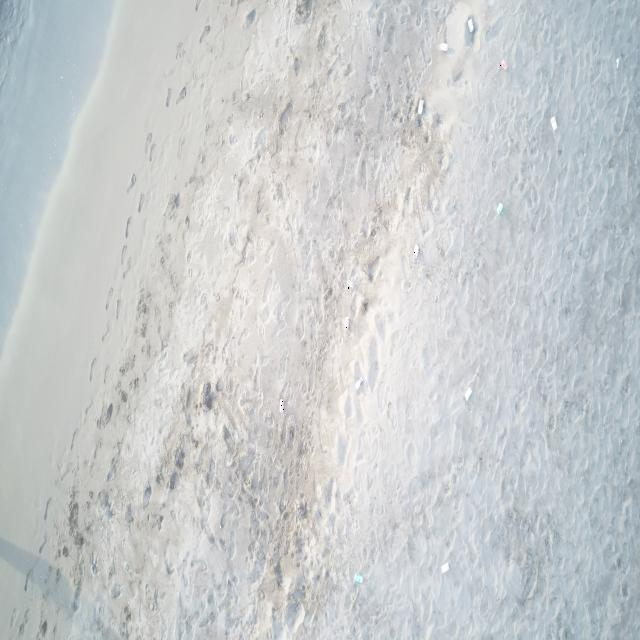tin-and-aluminum-cans: (354, 376, 364, 390), (440, 561, 450, 574), (464, 386, 472, 402), (354, 572, 364, 584), (467, 18, 474, 34), (550, 116, 557, 131), (496, 202, 503, 216), (500, 59, 508, 71), (418, 100, 424, 114), (279, 398, 285, 412), (344, 316, 350, 330), (413, 244, 419, 258), (440, 42, 448, 52), (348, 279, 354, 289)
